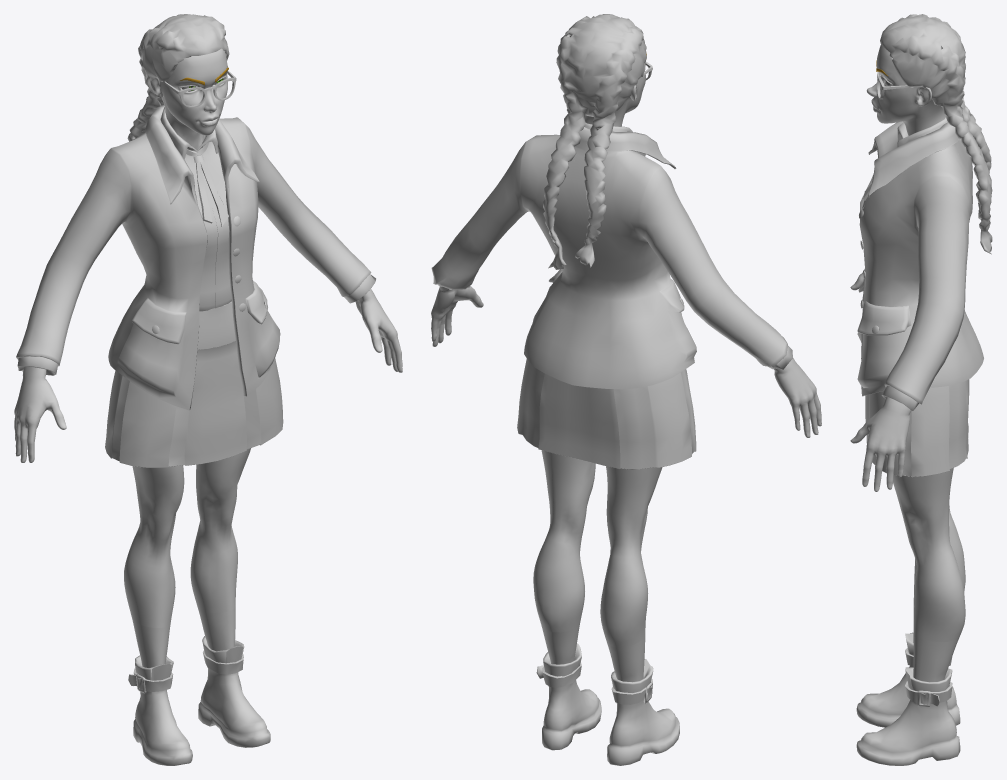
Rendered from W Character 15.fbx.
The picture shows the model from 3 angles, left to right: view 1: azimuth 30°, elevation 25°; view 2: azimuth 150°, elevation 25°; view 3: azimuth 270°, elevation 25°; orthographic projection.
Parts seen in each view (by area): view 1: Wolf3D_Outfit_Top.006, Wolf3D_Outfit_Bottom.007, legs.001, Wolf3D_Outfit_Footwear.007, Wolf3D_Hair.002, head, hand, legs; view 2: Wolf3D_Outfit_Top.006, legs.001, Wolf3D_Outfit_Bottom.007, Wolf3D_Hair.002, Wolf3D_Outfit_Footwear.007, hand, legs, head; view 3: Wolf3D_Outfit_Top.006, legs.001, Wolf3D_Hair.002, Wolf3D_Outfit_Footwear.007, Wolf3D_Outfit_Bottom.007, hand, head, legs.
Part boxes in pixels (x1,y1,x2,y2): Wolf3D_Outfit_Top.006: [16, 105, 375, 410]; Wolf3D_Outfit_Bottom.007: [105, 301, 283, 467]; legs.001: [124, 448, 250, 627]; Wolf3D_Outfit_Footwear.007: [128, 636, 270, 765]; Wolf3D_Hair.002: [127, 14, 229, 141]; head: [147, 48, 228, 149]; hand: [14, 289, 402, 462]; legs: [132, 606, 235, 667]; Wolf3D_Outfit_Top.006: [431, 122, 792, 389]; legs.001: [533, 450, 662, 647]; Wolf3D_Outfit_Bottom.007: [517, 358, 696, 469]; Wolf3D_Hair.002: [543, 14, 646, 269]; Wolf3D_Outfit_Footwear.007: [536, 643, 679, 765]; hand: [431, 285, 821, 437]; legs: [541, 624, 645, 681]; head: [574, 54, 646, 160]; Wolf3D_Outfit_Top.006: [857, 117, 983, 410]; legs.001: [893, 468, 965, 641]; Wolf3D_Hair.002: [880, 14, 992, 254]; Wolf3D_Outfit_Footwear.007: [856, 632, 960, 765]; Wolf3D_Outfit_Bottom.007: [865, 379, 969, 477]; hand: [850, 269, 911, 491]; head: [866, 45, 958, 154]; legs: [913, 602, 958, 682].
Bounding box in the file's own units: 103 × 187 × 33.66.
